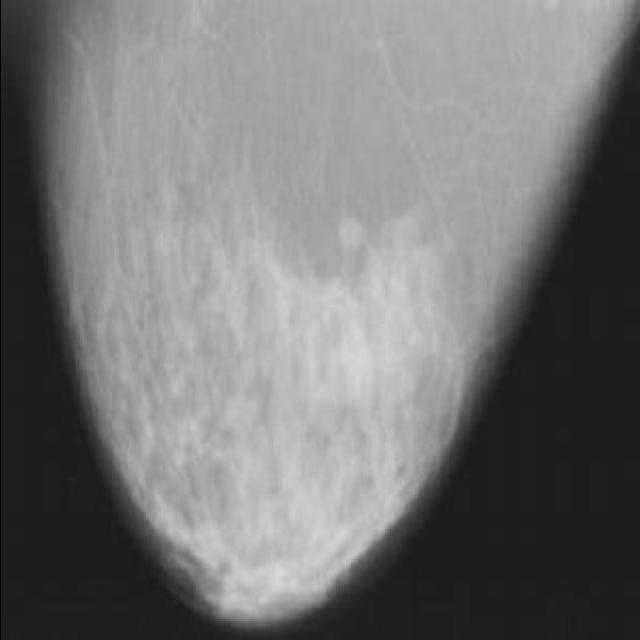tumor: (242, 212, 456, 422), (161, 498, 366, 609)
